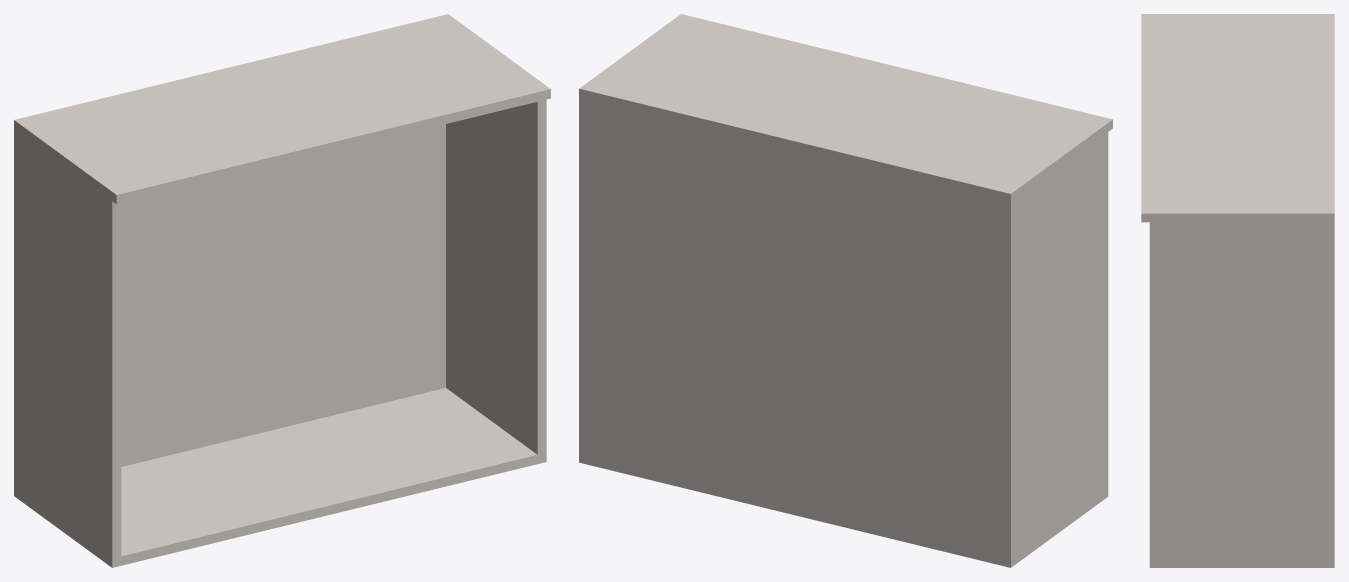
File: Cupboard_10_01.fbx
3 views of the same model, side by side, from view 1: azimuth 30°, elevation 25°; view 2: azimuth 150°, elevation 25°; view 3: azimuth 270°, elevation 25° (orthographic). The views are drawn at different scales.
Visible parts, largest first — view 1: Cupboard_10_01; view 2: Cupboard_10_01; view 3: Cupboard_10_01.
Boxes of the visible parts, box(x1,y1,x2,y2) form: Cupboard_10_01: box(14, 14, 550, 567); Cupboard_10_01: box(579, 14, 1112, 567); Cupboard_10_01: box(1141, 14, 1334, 567).
Size of the model in its own units: 128 by 106 by 52.52.
